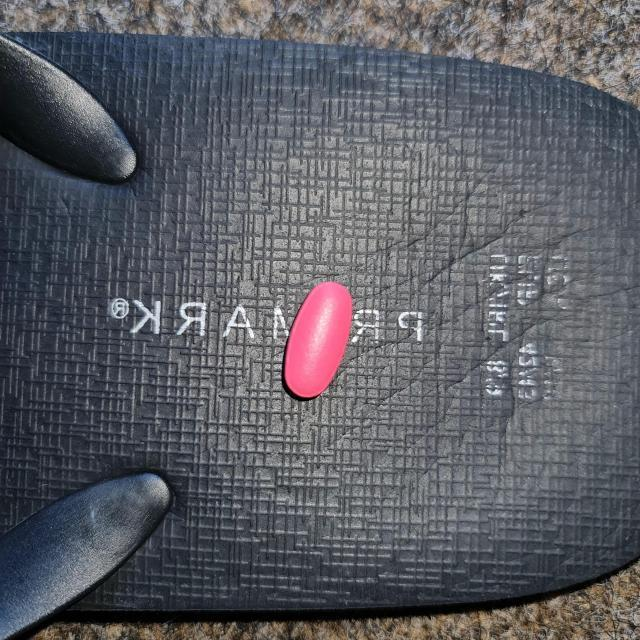pill: (276, 278, 356, 394)
